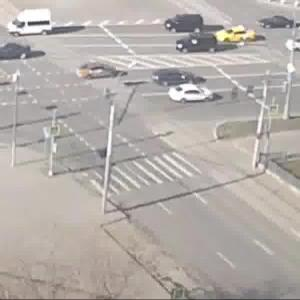car: (167, 79, 216, 104), (13, 8, 53, 37), (176, 35, 222, 58), (74, 60, 121, 82), (1, 40, 38, 65), (215, 23, 258, 44), (165, 16, 206, 37), (157, 69, 209, 84), (255, 15, 300, 31)
